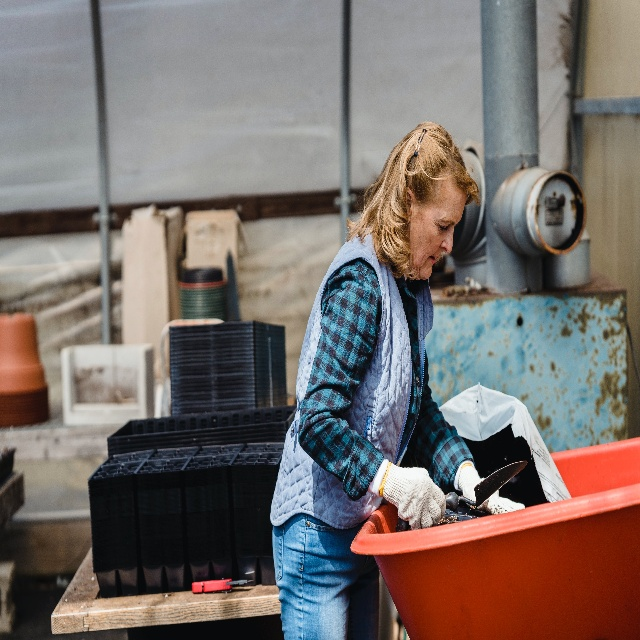Guantes: (379, 455, 446, 530), (458, 459, 525, 514)
